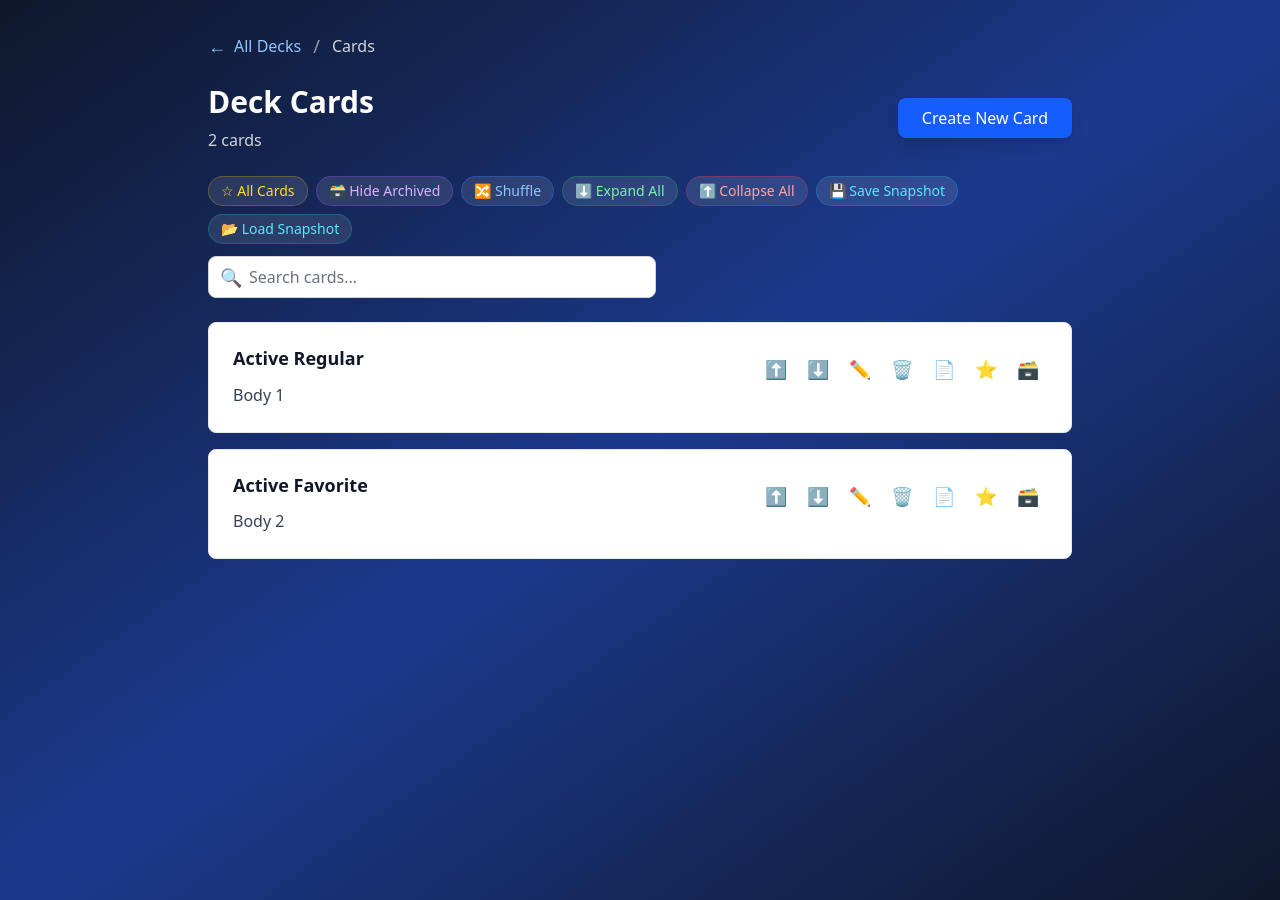
CardScreen Filters (Favorites / Archived) › combines favorites + show archived to display archived favorites
Click the button with aria-label "toggle favorites filter".
click(258, 191)  # box [208,176,308,206]
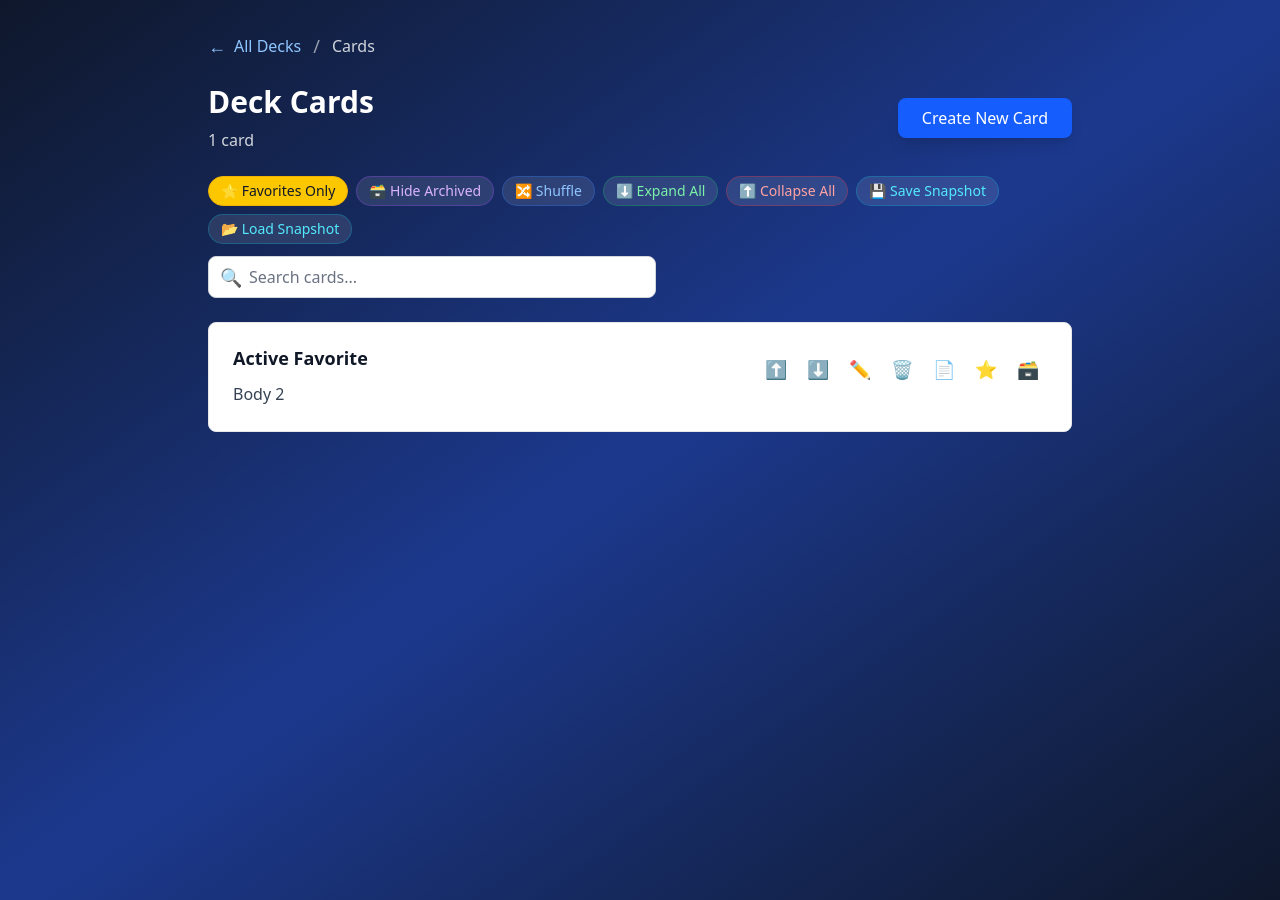
Click the button with aria-label "toggle archived visibility".
click(425, 191)  # box [356,176,494,206]
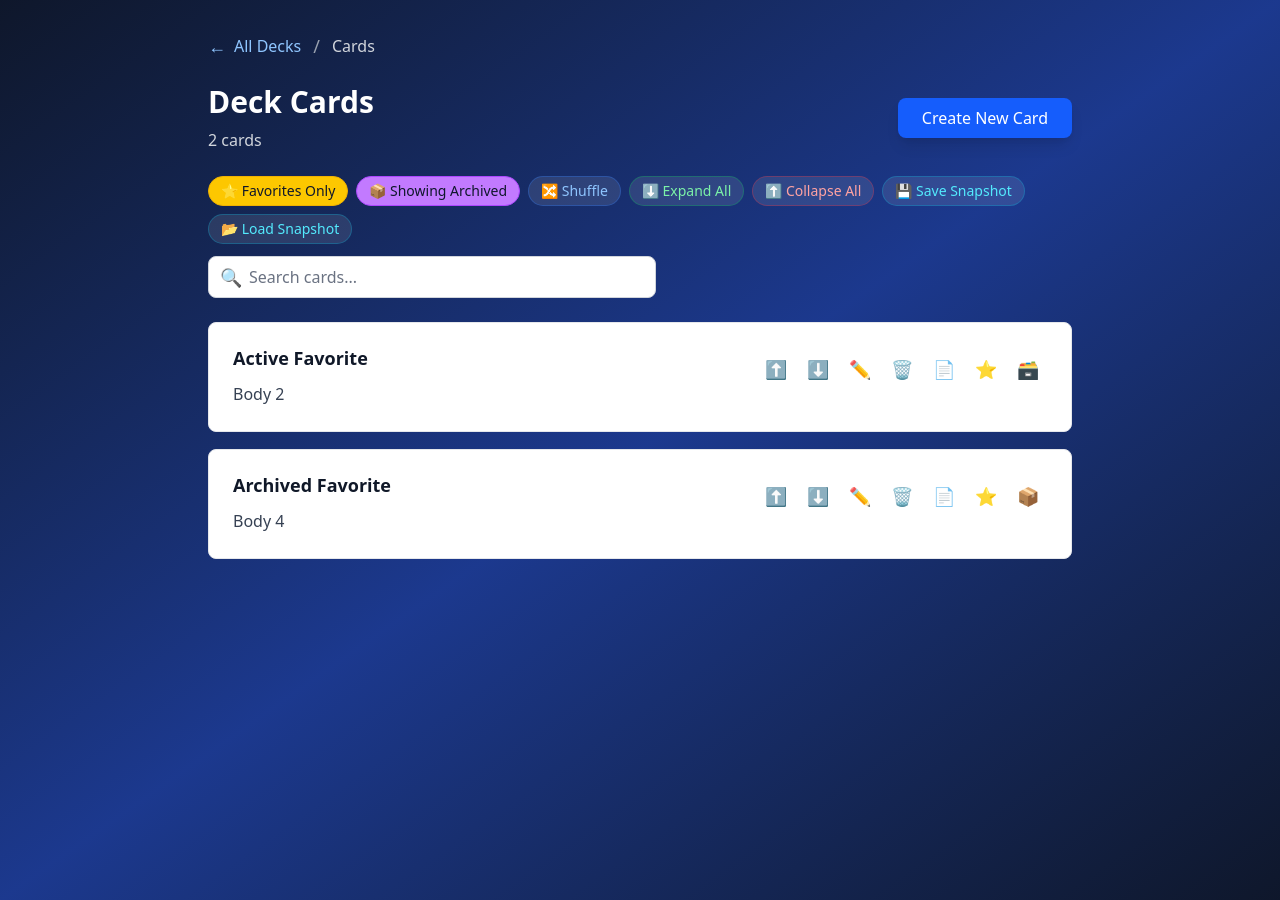
Check: the heading "Active Favorite" is shown, box [233,346,368,370]
Check: the heading "Archived Favorite" is shown, box [233,472,391,496]
